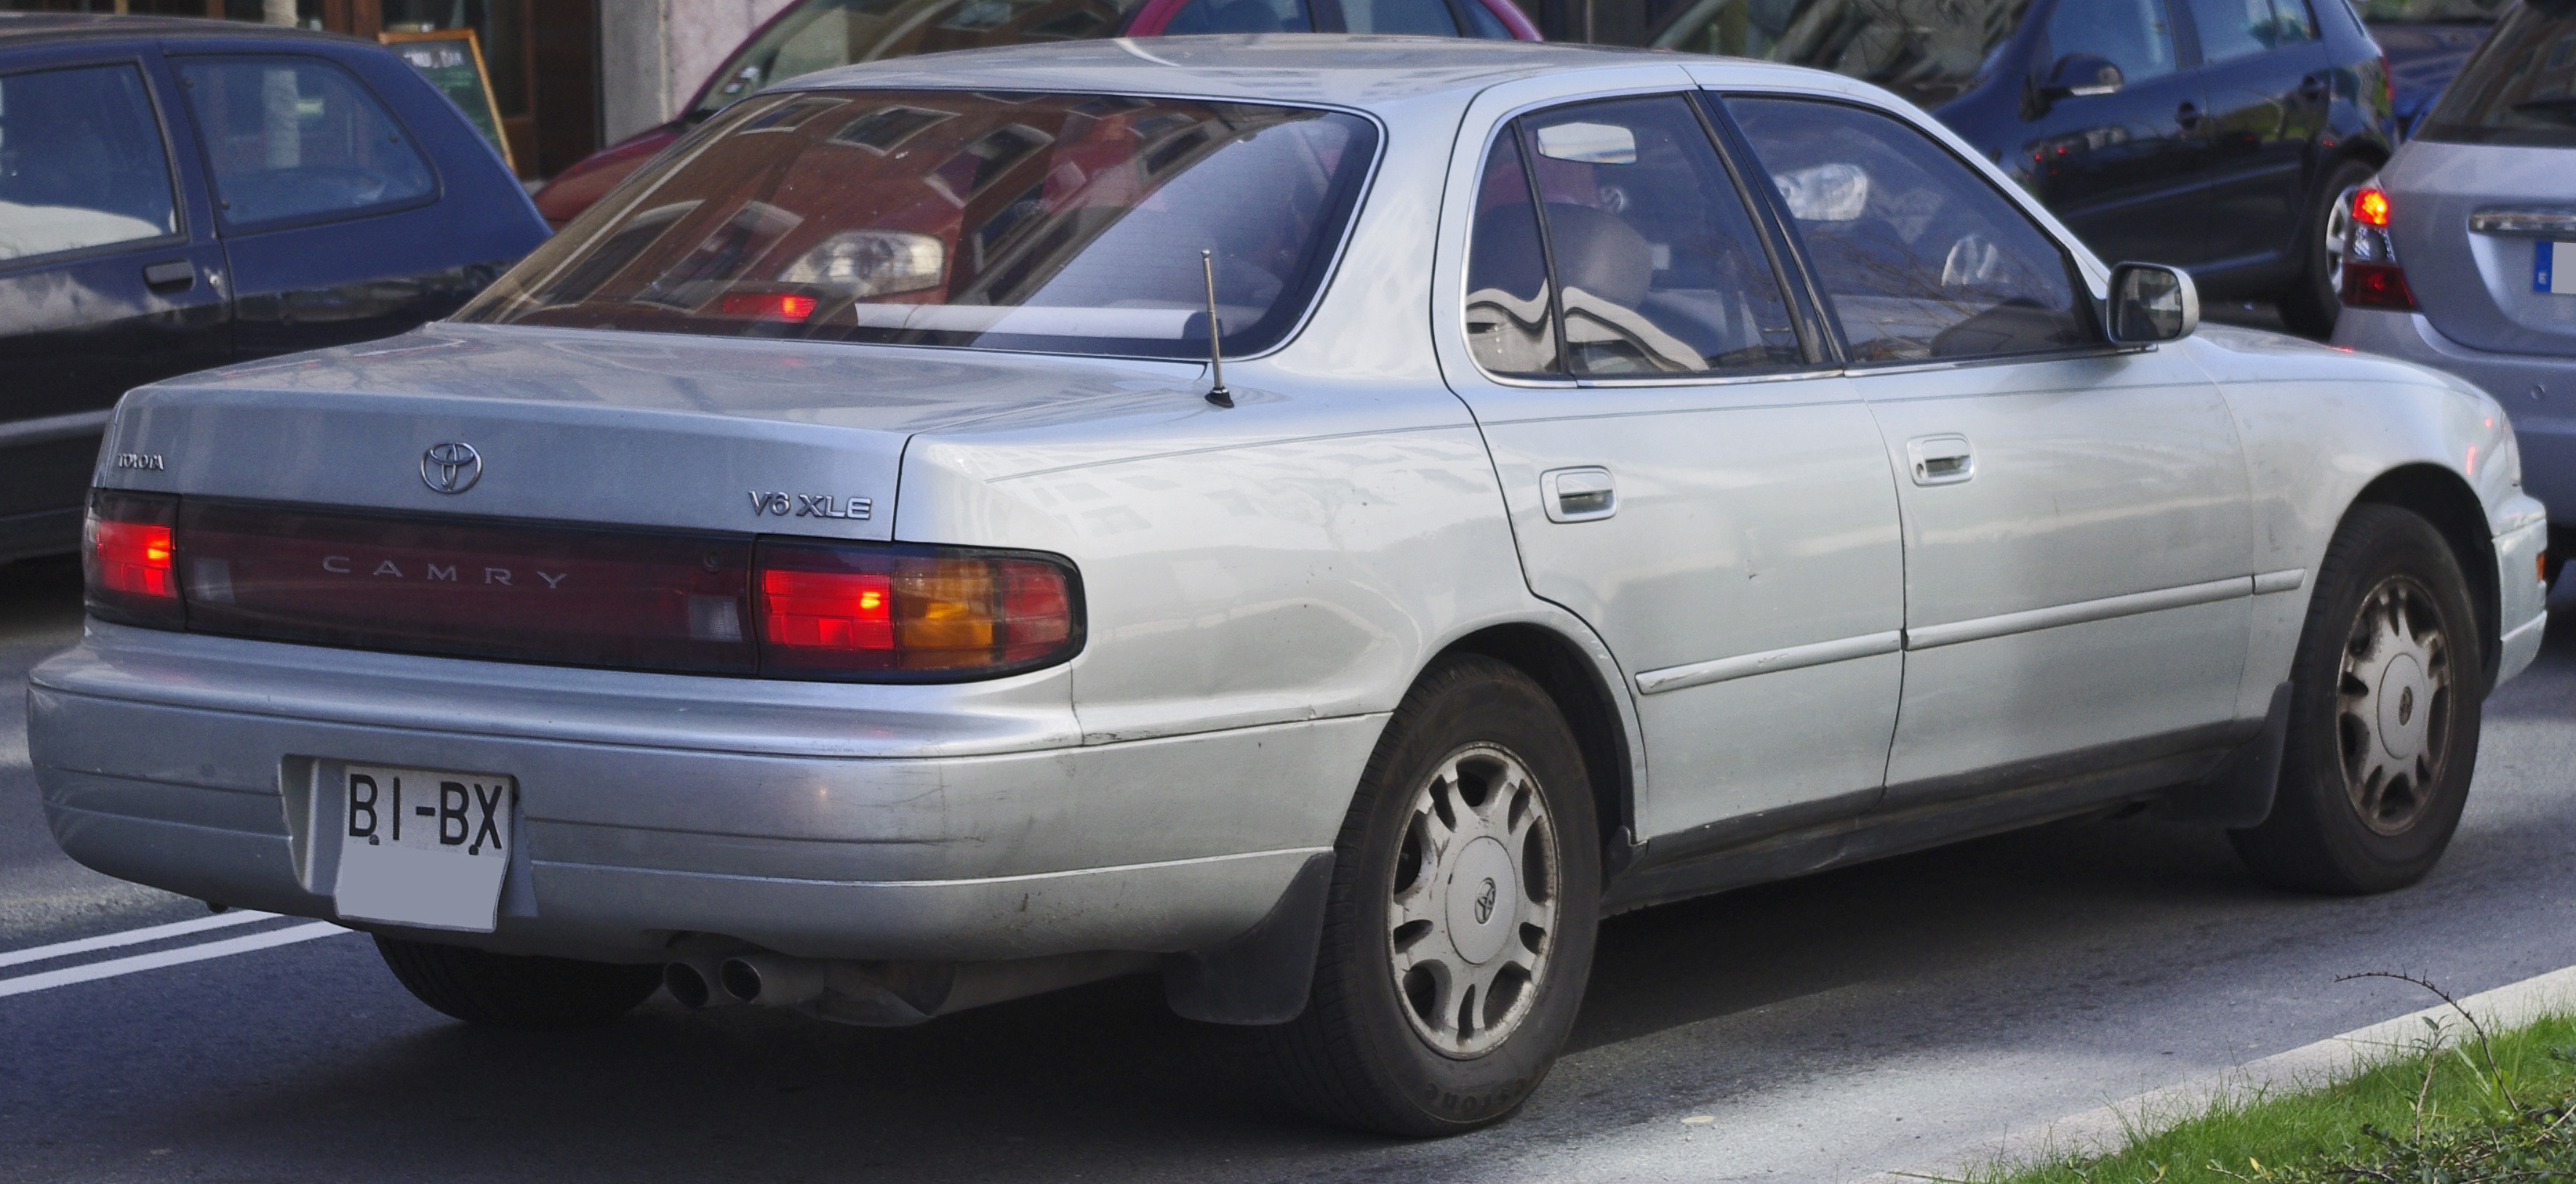car: (18, 18, 2560, 1140)
